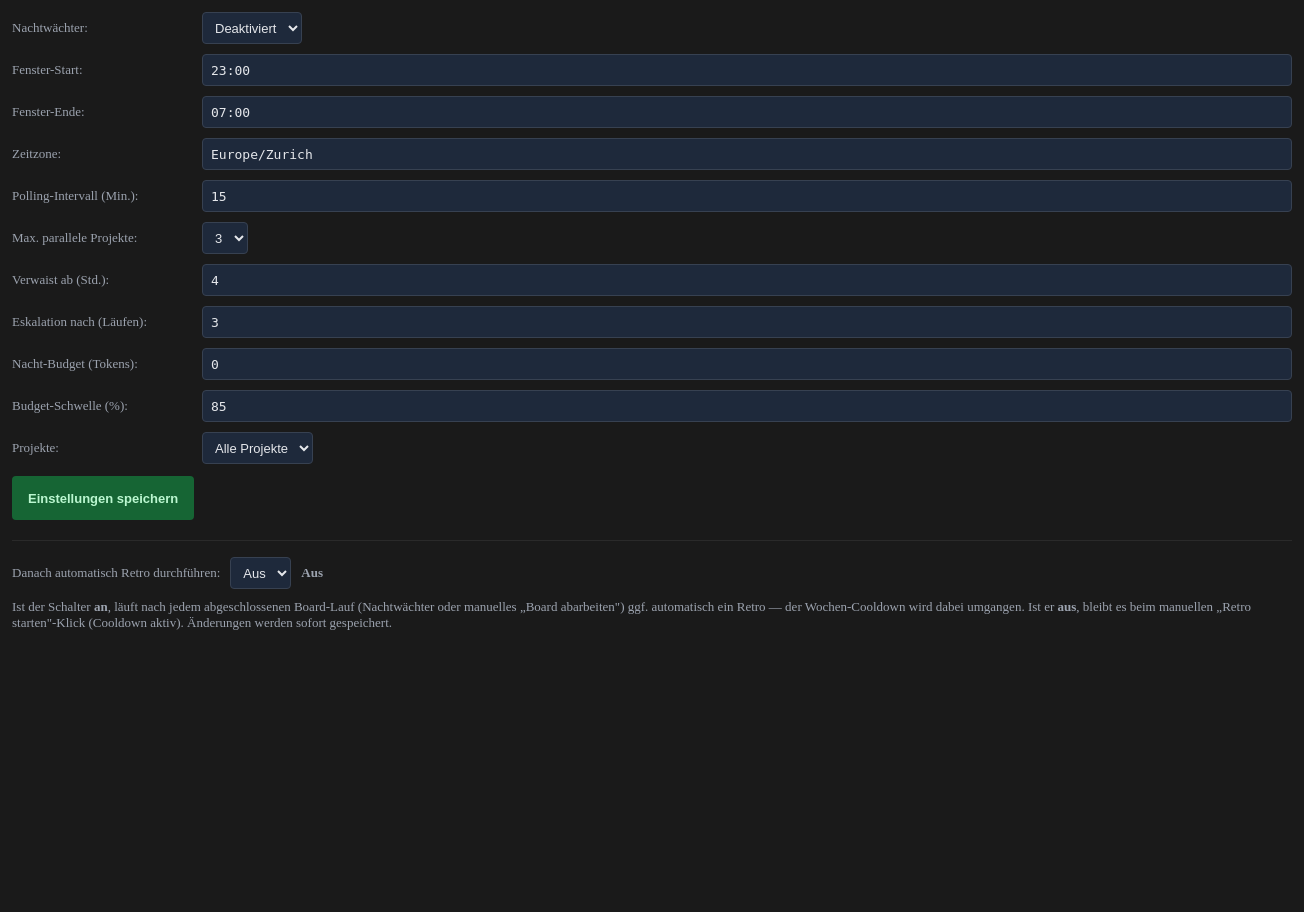
NightWatchSettings — AC17: PUT mit geänderten Werten › night-budget-guard AC2: Client-Vorabprüfung — negatives nightBudgetTokens verhindert PUT + zeigt feldzugeordneten Fehler
Replace the text in the number field labelled "Nacht-Budget (Tokens):" with "-1" at {"x": 747, "y": 364}, box x1=202 y1=348 x2=1292 y2=380
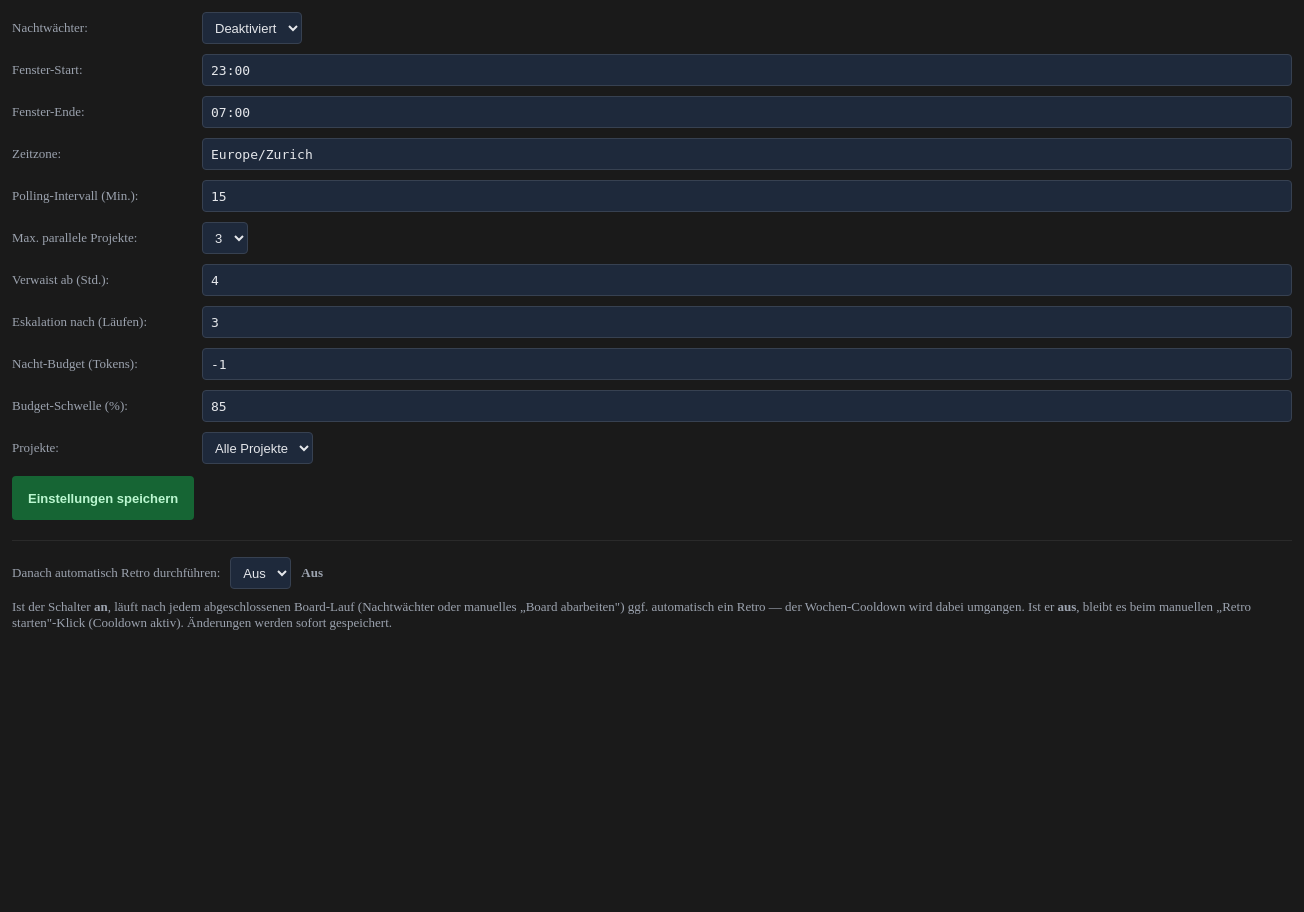
Click the button "Einstellungen speichern" at {"x": 103, "y": 498}, box x1=12 y1=476 x2=194 y2=520
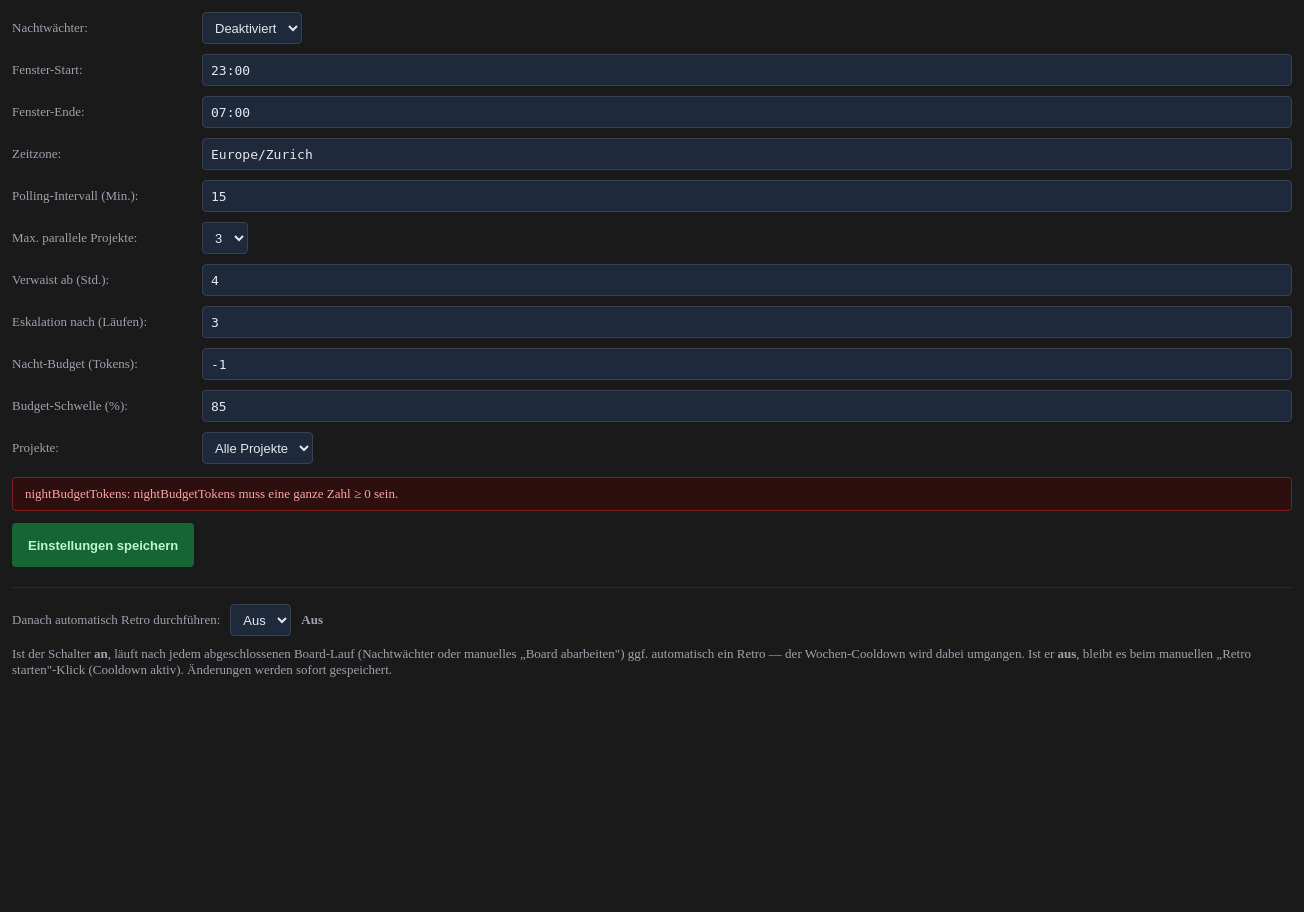
expect the message shows "nightBudgetTokens": met, box x1=25 y1=486 x2=398 y2=501
